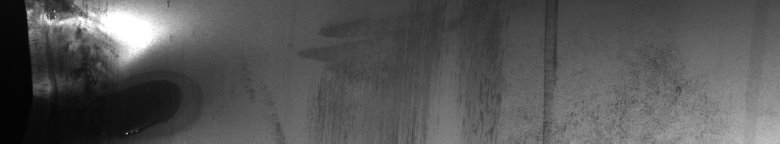ke: (28, 0, 153, 144)
